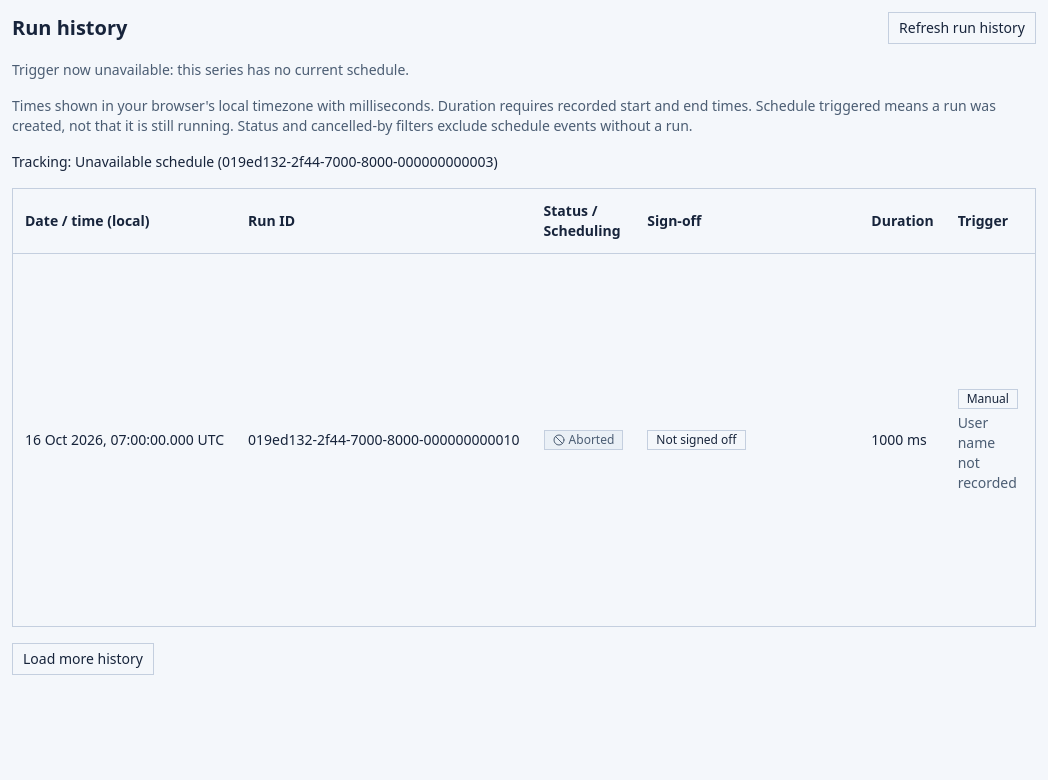
historical table › loads more explicitly and preserves prior rows after an older-page error
Click the button "Load more history": (83, 659) [12, 643, 154, 675]
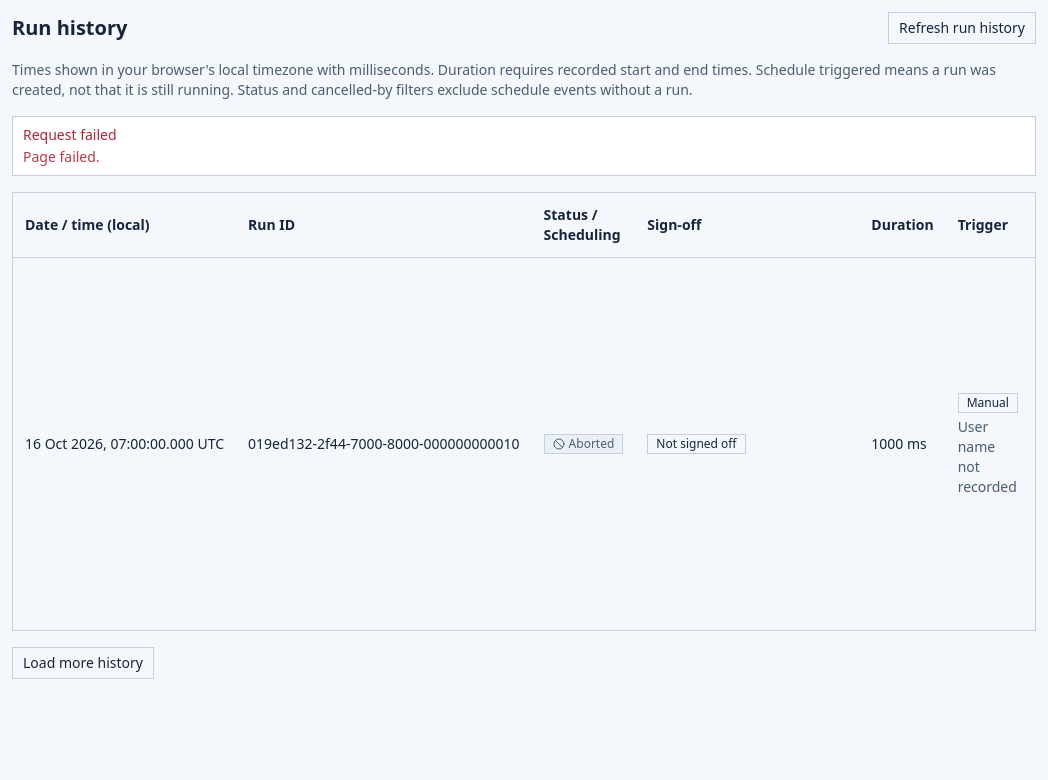
Expected: the table shows "Aborted", [569, 435, 614, 452]
Now the message shows "Page failed.", box [23, 147, 100, 166]
